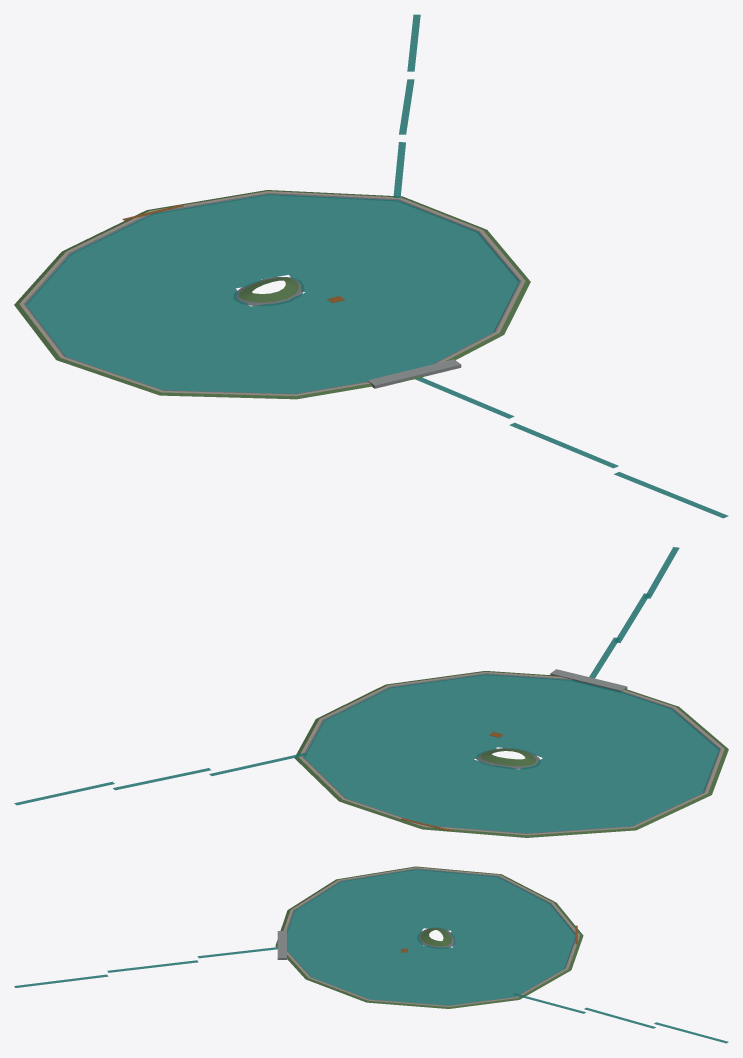
The model's file is water_ho_tuyet_tinh_coc_ankroet.glb.
The picture shows the model from 3 angles, top to bottom: view 1: azimuth 30°, elevation 25°; view 2: azimuth 150°, elevation 25°; view 3: azimuth 270°, elevation 25°; orthographic projection. The views are drawn at different scales.
Parts seen in each view (by area): view 1: water_surface_water_ho_tuyet_tinh_coc_ankroet, shoreline_terrain_transition_verge_water_ho_tuyet_tinh_coc_a, lakeside_promenade_walkway_water_ho_tuyet_tinh_coc_ankroet, headwater_terraces_stream_tuyet_tinh_coc_south_outflow_to_an, embankment_stone_coping_water_ho_tuyet_tinh_coc_ankroet, headwater_terraces_stream_da_ban_northeast_spring_inflow, tuyet_tinh_coc_granite_quarry_sill_weir, island_pine_mound_slope_island_tuyet_tinh_coc_01_emerald_gra, embankment_stone_slope_water_ho_tuyet_tinh_coc_ankroet; view 2: water_surface_water_ho_tuyet_tinh_coc_ankroet, shoreline_terrain_transition_verge_water_ho_tuyet_tinh_coc_a, lakeside_promenade_walkway_water_ho_tuyet_tinh_coc_ankroet, embankment_stone_coping_water_ho_tuyet_tinh_coc_ankroet, headwater_terraces_stream_tuyet_tinh_coc_south_outflow_to_an, headwater_terraces_stream_da_ban_northeast_spring_inflow, island_pine_mound_slope_island_tuyet_tinh_coc_01_emerald_gra, embankment_stone_slope_water_ho_tuyet_tinh_coc_ankroet, tuyet_tinh_coc_granite_quarry_sill_weir; view 3: water_surface_water_ho_tuyet_tinh_coc_ankroet, shoreline_terrain_transition_verge_water_ho_tuyet_tinh_coc_a, lakeside_promenade_walkway_water_ho_tuyet_tinh_coc_ankroet, headwater_terraces_stream_tuyet_tinh_coc_south_outflow_to_an, embankment_stone_coping_water_ho_tuyet_tinh_coc_ankroet, headwater_terraces_stream_da_ban_northeast_spring_inflow, embankment_stone_slope_water_ho_tuyet_tinh_coc_ankroet, island_pine_mound_slope_island_tuyet_tinh_coc_01_emerald_gra.
Part boxes in pixels (box(x1,y1,x2,y2)): water_surface_water_ho_tuyet_tinh_coc_ankroet: box(26, 194, 519, 393); shoreline_terrain_transition_verge_water_ho_tuyet_tinh_coc_a: box(14, 190, 530, 399); lakeside_promenade_walkway_water_ho_tuyet_tinh_coc_ankroet: box(19, 191, 525, 396); headwater_terraces_stream_tuyet_tinh_coc_south_outflow_to_an: box(415, 377, 728, 518); embankment_stone_coping_water_ho_tuyet_tinh_coc_ankroet: box(24, 193, 521, 394); headwater_terraces_stream_da_ban_northeast_spring_inflow: box(393, 14, 420, 198); tuyet_tinh_coc_granite_quarry_sill_weir: box(367, 359, 461, 388); island_pine_mound_slope_island_tuyet_tinh_coc_01_emerald_gra: box(239, 278, 298, 302); embankment_stone_slope_water_ho_tuyet_tinh_coc_ankroet: box(25, 193, 519, 356); water_surface_water_ho_tuyet_tinh_coc_ankroet: box(304, 674, 719, 833); shoreline_terrain_transition_verge_water_ho_tuyet_tinh_coc_a: box(294, 671, 728, 837); lakeside_promenade_walkway_water_ho_tuyet_tinh_coc_ankroet: box(299, 671, 724, 835); embankment_stone_coping_water_ho_tuyet_tinh_coc_ankroet: box(302, 673, 720, 833); headwater_terraces_stream_tuyet_tinh_coc_south_outflow_to_an: box(589, 547, 679, 678); headwater_terraces_stream_da_ban_northeast_spring_inflow: box(14, 753, 307, 805); island_pine_mound_slope_island_tuyet_tinh_coc_01_emerald_gra: box(480, 749, 536, 766); embankment_stone_slope_water_ho_tuyet_tinh_coc_ankroet: box(303, 673, 719, 797); tuyet_tinh_coc_granite_quarry_sill_weir: box(550, 669, 627, 691); water_surface_water_ho_tuyet_tinh_coc_ankroet: box(287, 869, 575, 1005); shoreline_terrain_transition_verge_water_ho_tuyet_tinh_coc_a: box(275, 866, 583, 1008); lakeside_promenade_walkway_water_ho_tuyet_tinh_coc_ankroet: box(283, 867, 579, 1006); headwater_terraces_stream_tuyet_tinh_coc_south_outflow_to_an: box(14, 947, 277, 987); embankment_stone_coping_water_ho_tuyet_tinh_coc_ankroet: box(286, 868, 575, 1005); headwater_terraces_stream_da_ban_northeast_spring_inflow: box(512, 993, 728, 1043); embankment_stone_slope_water_ho_tuyet_tinh_coc_ankroet: box(287, 868, 575, 976); island_pine_mound_slope_island_tuyet_tinh_coc_01_emerald_gra: box(420, 928, 451, 946).
Bounding box in the file's own units: 771 × 41.5 × 1228.
